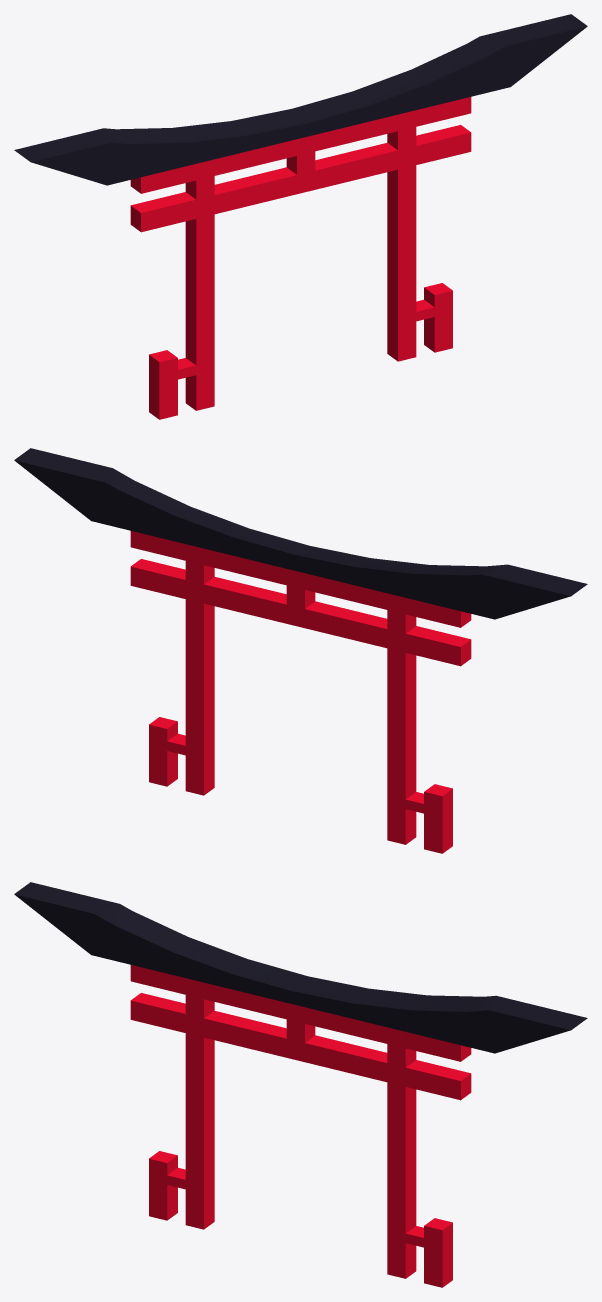
File: bamboogate.fbx
3 views of the same model, one above another, from view 1: azimuth 30°, elevation 25°; view 2: azimuth 150°, elevation 25°; view 3: azimuth 330°, elevation 25° (orthographic).
Visible parts, largest first — view 1: pCube12; view 2: pCube12; view 3: pCube12.
Boxes of the visible parts, <box> form: pCube12: <box>14,14,587,419</box>; pCube12: <box>14,448,587,853</box>; pCube12: <box>14,882,587,1287</box>.
Bounding box in the file's own units: 15.19 × 7.6 × 0.7865.
